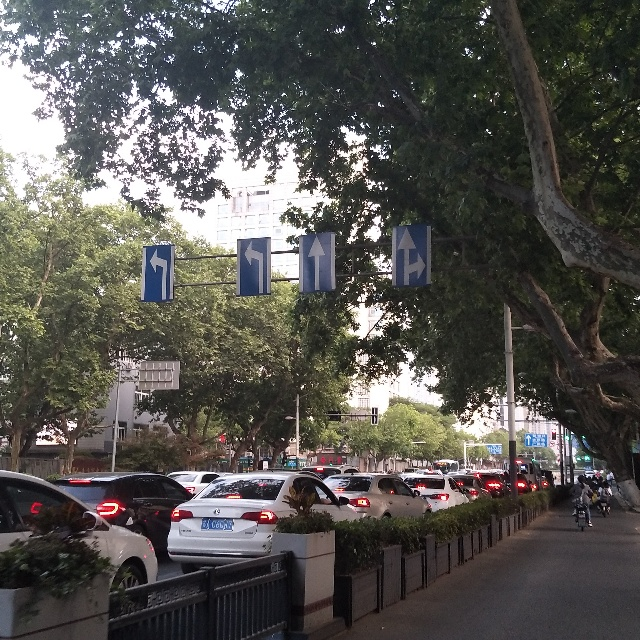left: (237, 238, 271, 296), (141, 245, 174, 301)
straight: (299, 234, 335, 292)
